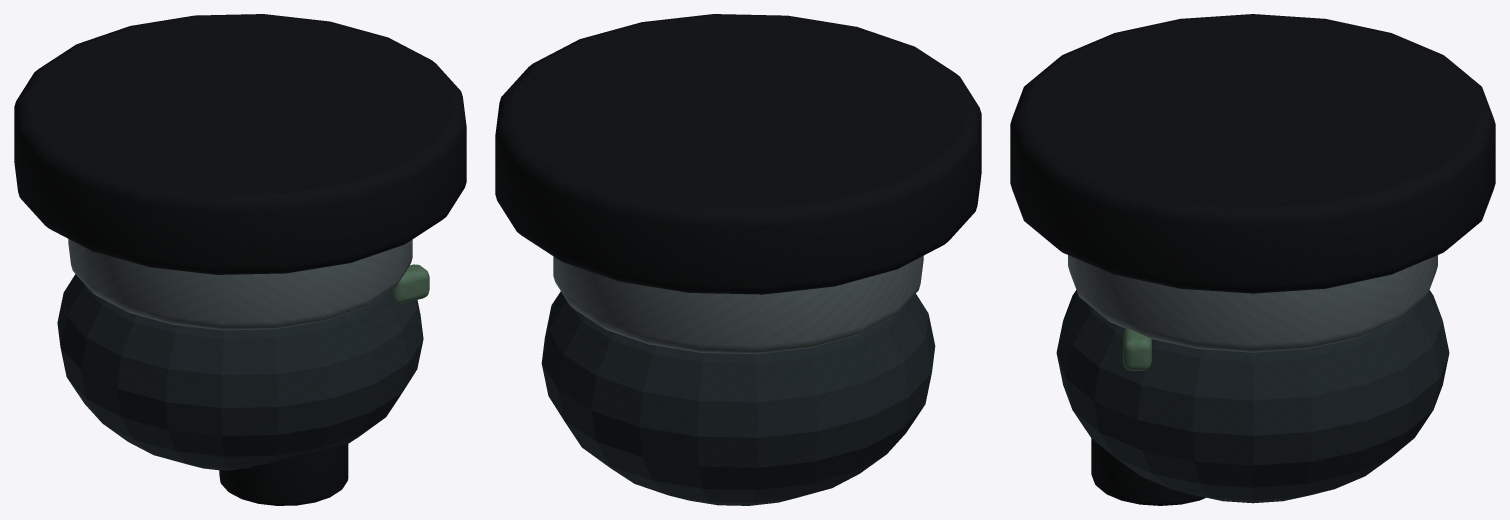
Rendered from CeilingDomeCamera.fbx.
The picture shows the model from 3 angles, left to right: view 1: azimuth 30°, elevation 25°; view 2: azimuth 150°, elevation 25°; view 3: azimuth 270°, elevation 25°; orthographic projection. The views are drawn at different scales.
Visible parts, largest first — view 1: CeilingDomeCamera_Mesh; view 2: CeilingDomeCamera_Mesh; view 3: CeilingDomeCamera_Mesh.
Boxes of the visible parts, bbox=[...] form: CeilingDomeCamera_Mesh: bbox=[14, 14, 466, 505]; CeilingDomeCamera_Mesh: bbox=[495, 14, 981, 505]; CeilingDomeCamera_Mesh: bbox=[1010, 14, 1495, 505].
Size of the model in its own units: 42 by 35 by 42.
Materials: 5 (5 with a texture image).
